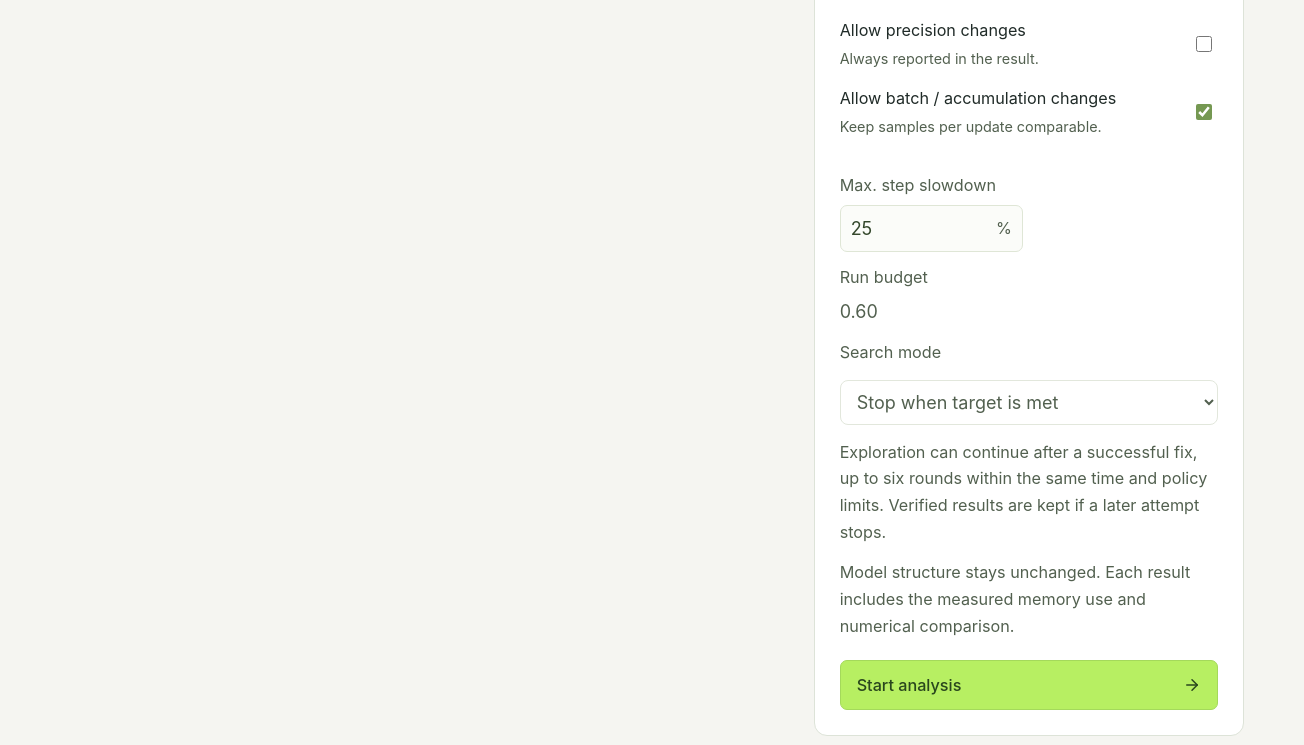
workspace state › validates source selection before submitting
This screenshot has width=1304, height=745.
(page scrolled)
Step 1. Click the button "Start analysis" → click(909, 685), box [840,660,1218,710]
(page scrolled)
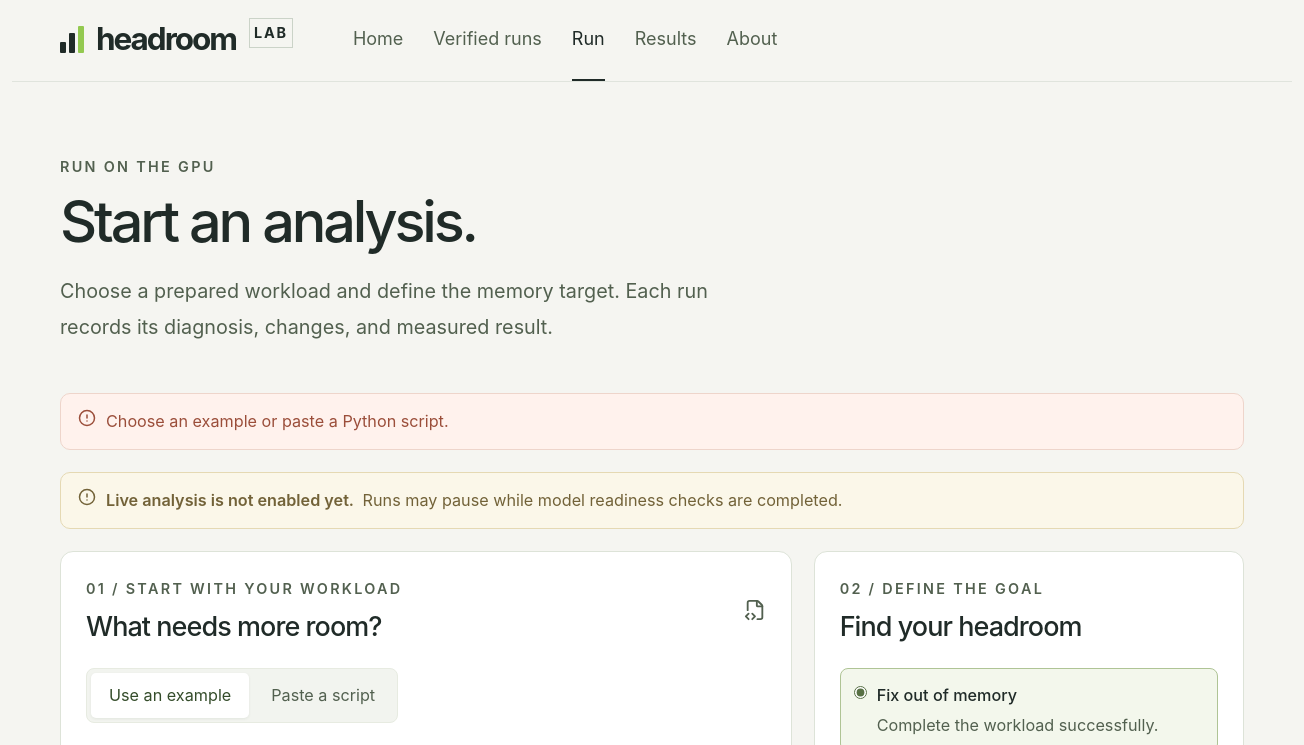
Now the message "Choose an example or paste a Python script." is shown, box [60,394,1244,450]
